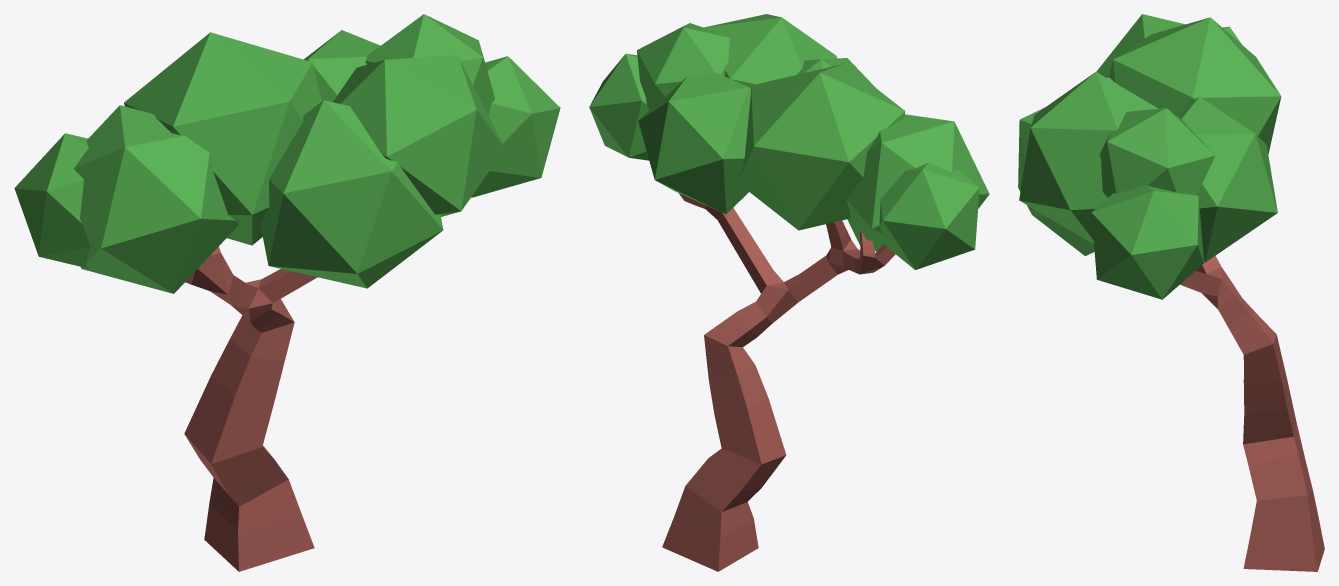
The model's file is Tree3.fbx.
3 renders of one model, left to right at view 1: azimuth 30°, elevation 25°; view 2: azimuth 150°, elevation 25°; view 3: azimuth 270°, elevation 25°, orthographic. The views are drawn at different scales.
Visible parts, largest first — view 1: Cube; view 2: Cube; view 3: Cube.
Boxes of the visible parts, <box> form: Cube: <box>14,14,560,571</box>; Cube: <box>589,14,989,571</box>; Cube: <box>1018,14,1324,571</box>.
Size of the model in its own units: 944 by 1058 by 581.
